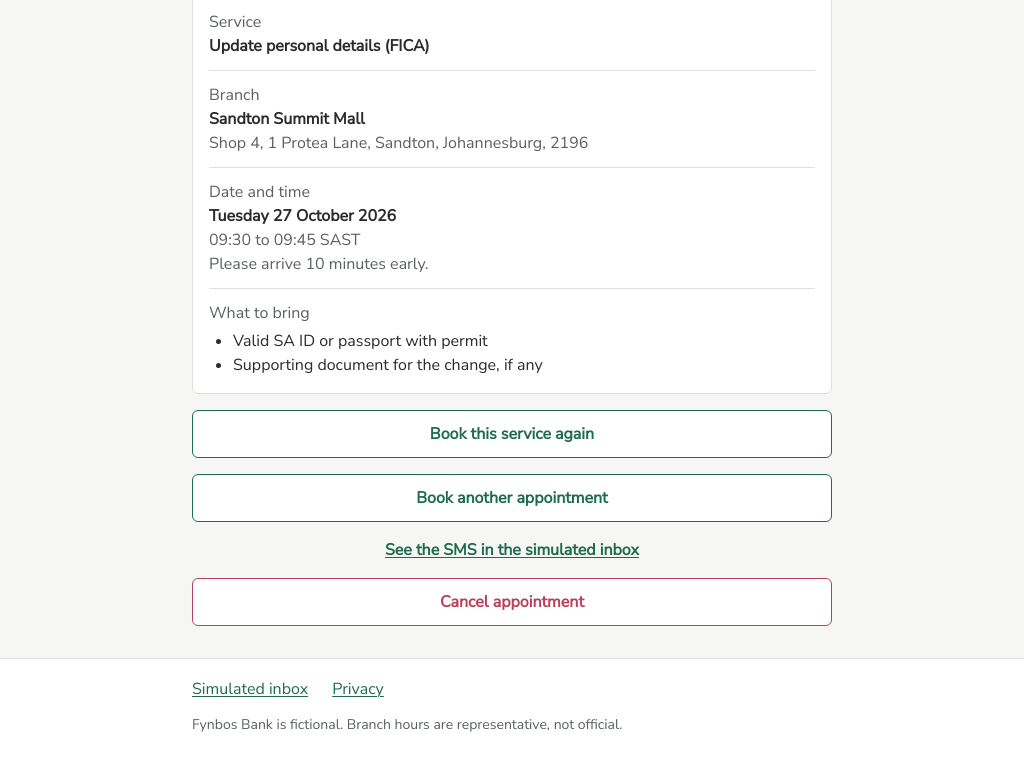
Scenario: ConfirmationPage, cancelling › asks first, naming the appointment, and keeps it when the customer says so
The image size is (1024, 759).
(page scrolled)
Step 1. Click the button "Cancel appointment" → (512, 602), box [192,578,832,626]
(page scrolled)
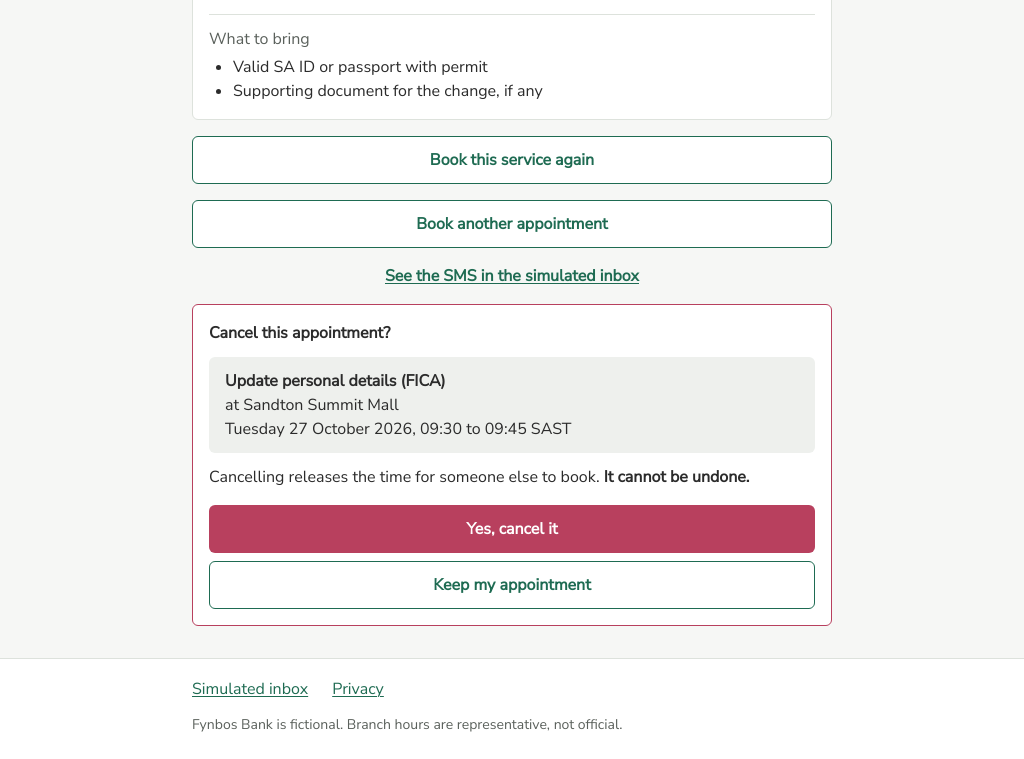
Now the element "Cancel this appointment?" shows "Update personal details (FICA)", box [225,370,446,392]
Now the element "Cancel this appointment?" shows "at Sandton Summit Mall", box [192,304,832,626]
Now the element "Cancel this appointment?" shows "Tuesday 27 October 2026, 09:30 to 09:45 SAST", box [192,304,832,626]
Step 2. Click the button "Keep my appointment" → (512, 585), box [209,561,815,609]
(page scrolled)
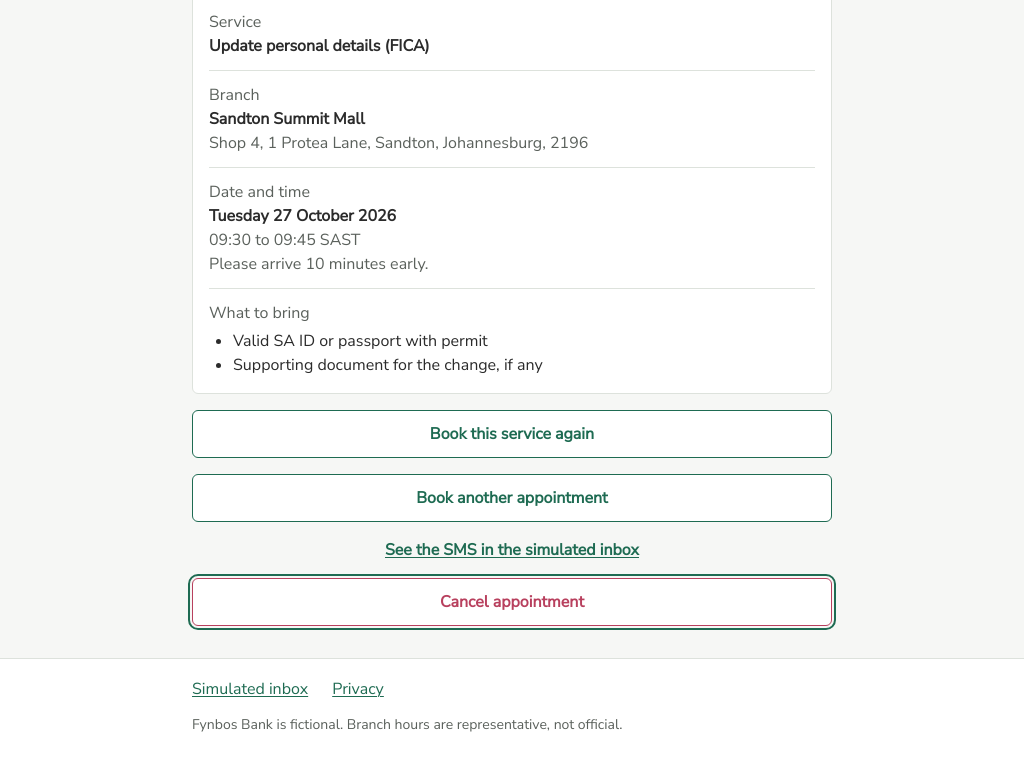
Now the heading "Cancel this appointment?" is gone
